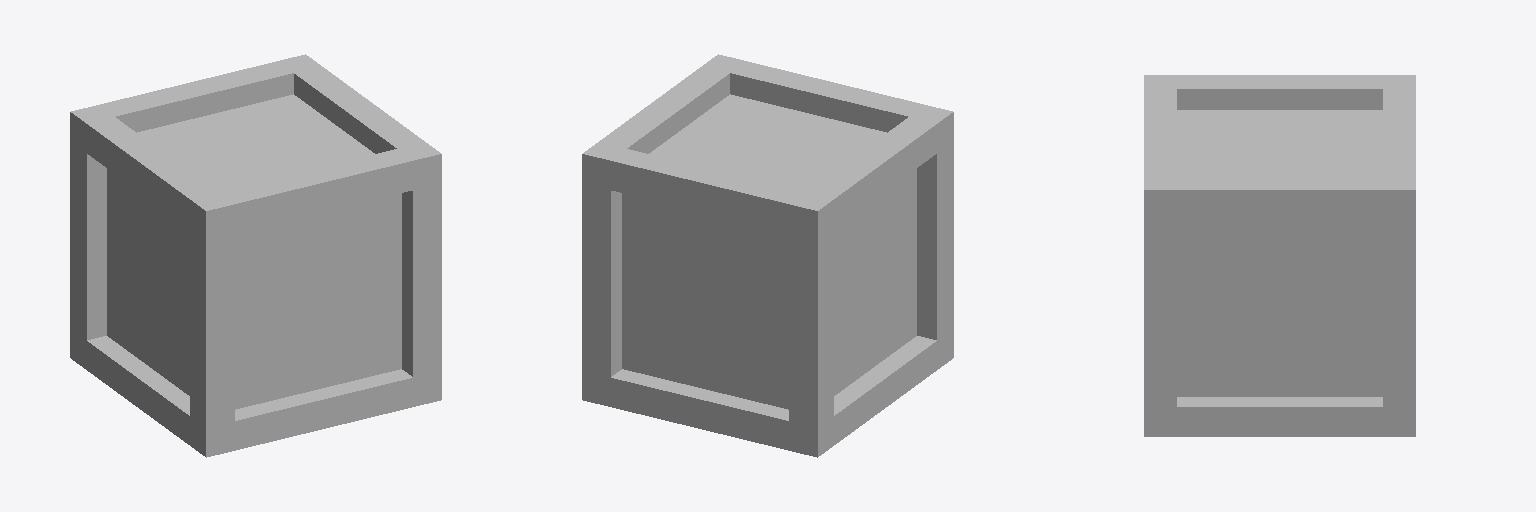
Rendered from wooden box.obj.
3 renders of one model, left to right at view 1: azimuth 30°, elevation 25°; view 2: azimuth 150°, elevation 25°; view 3: azimuth 270°, elevation 25°, orthographic.
Parts seen in each view (by area): view 1: pCube236; view 2: pCube236; view 3: pCube236.
Part boxes in pixels (bbox=[...]): pCube236: bbox=[70, 54, 441, 457]; pCube236: bbox=[582, 54, 953, 457]; pCube236: bbox=[1144, 75, 1415, 436].
Size of the model in its own units: 1.21 by 1.21 by 1.21.